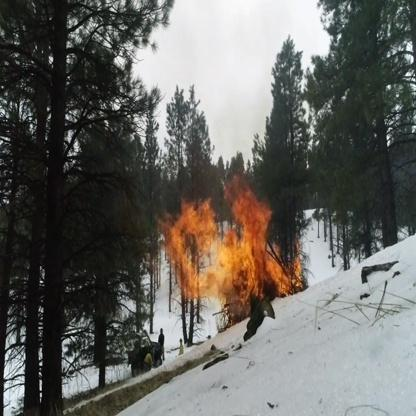Fire: (156, 170, 307, 323)
